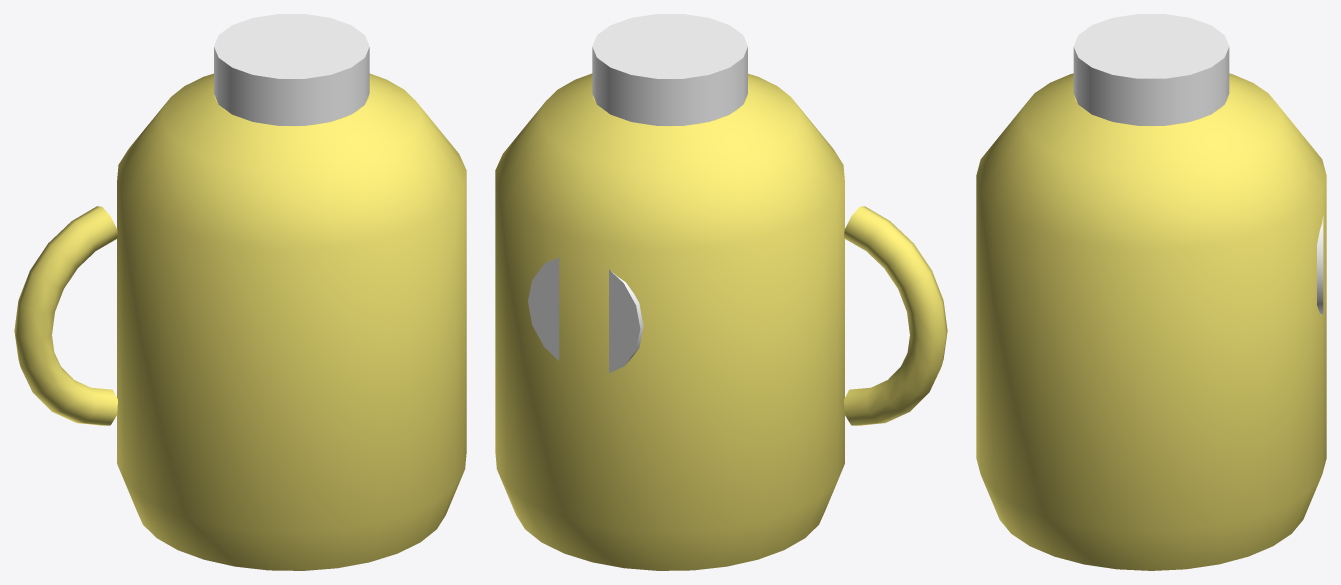
File: lemonade.fbx
3 renders of one model, left to right at view 1: azimuth 30°, elevation 25°; view 2: azimuth 150°, elevation 25°; view 3: azimuth 270°, elevation 25°, orthographic.
Visible parts, largest first — view 1: Lemonade Jug; view 2: Lemonade Jug; view 3: Lemonade Jug.
Boxes of the visible parts, x1,y1,x2,y2 form: Lemonade Jug: (14, 14, 466, 570); Lemonade Jug: (495, 14, 947, 570); Lemonade Jug: (976, 14, 1326, 570).
Size of the model in its own units: 0.76 by 0.78 by 0.54.
